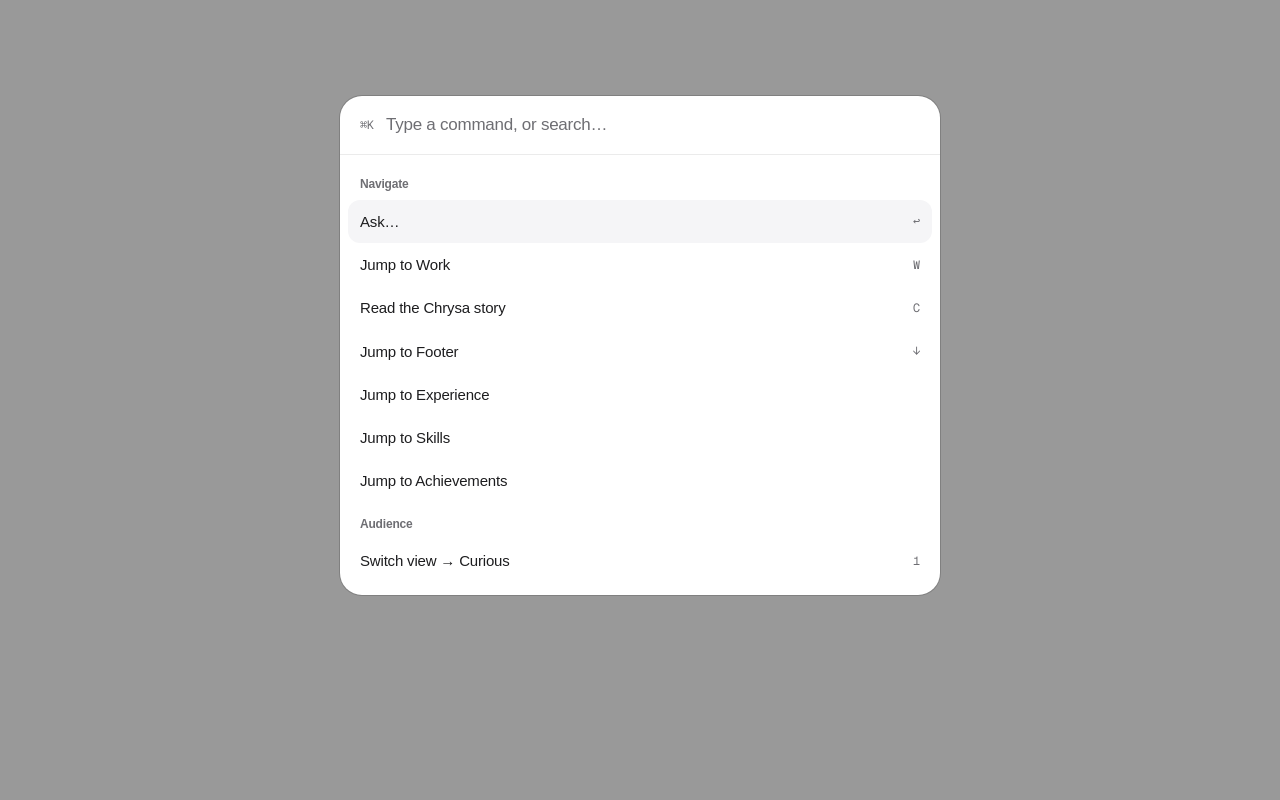
it: CommandPalette › shows 'No matches.' when query matches nothing
Type "zzzzzz-no-match" into the field named "Search commands". click: (653, 125)
box: [386,112,920,138]
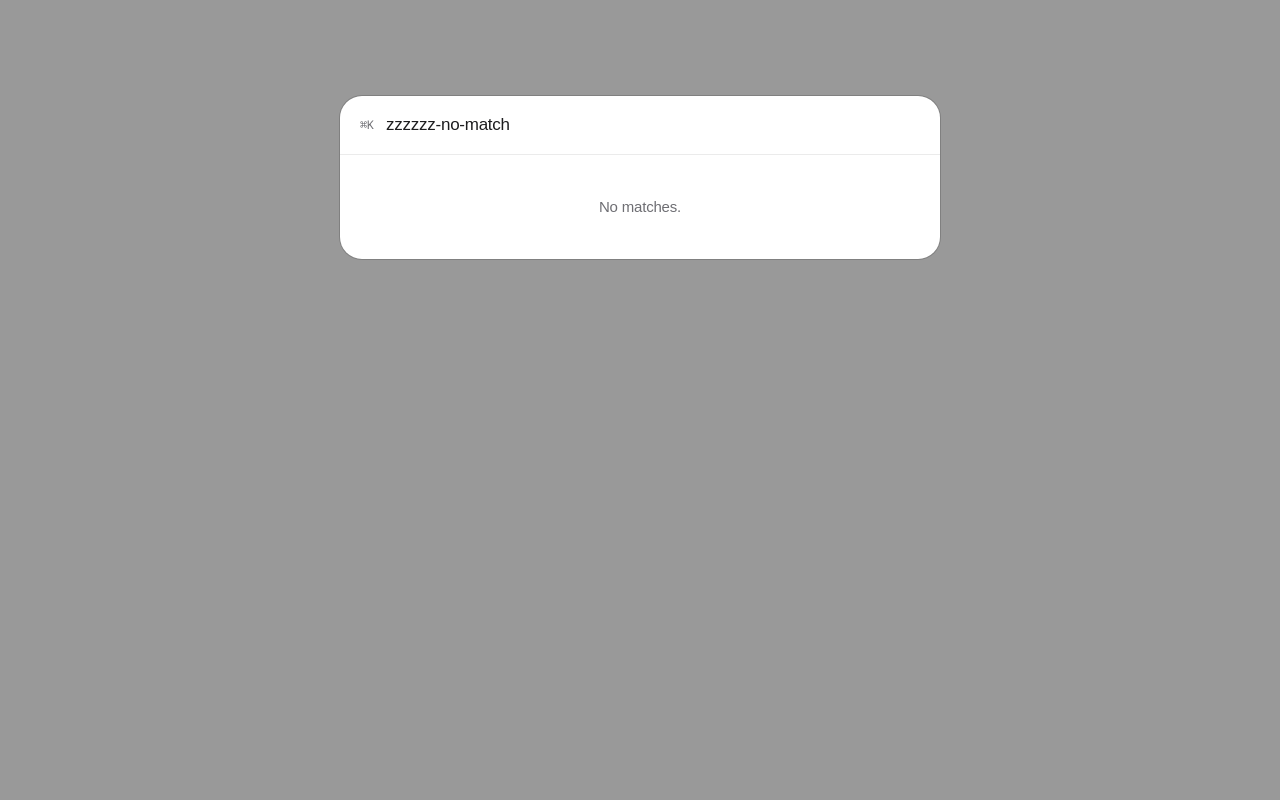
Expected: the text "No matches." is shown, [599,198,681,215]
